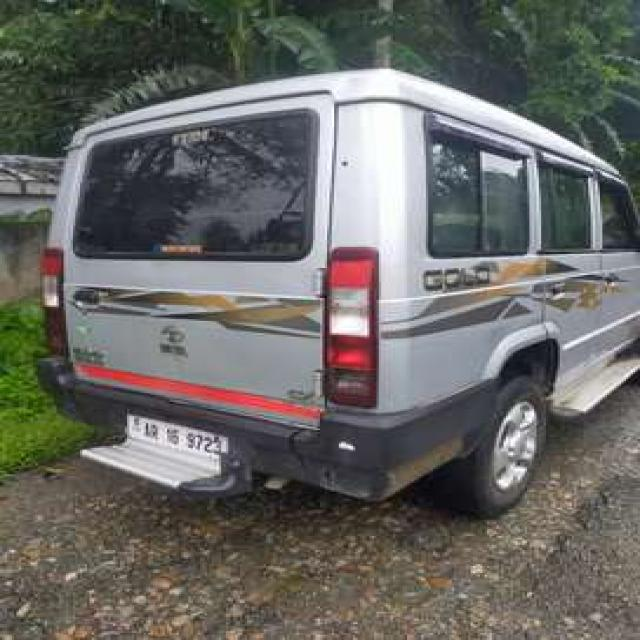license-plate: (125, 411, 226, 458)
